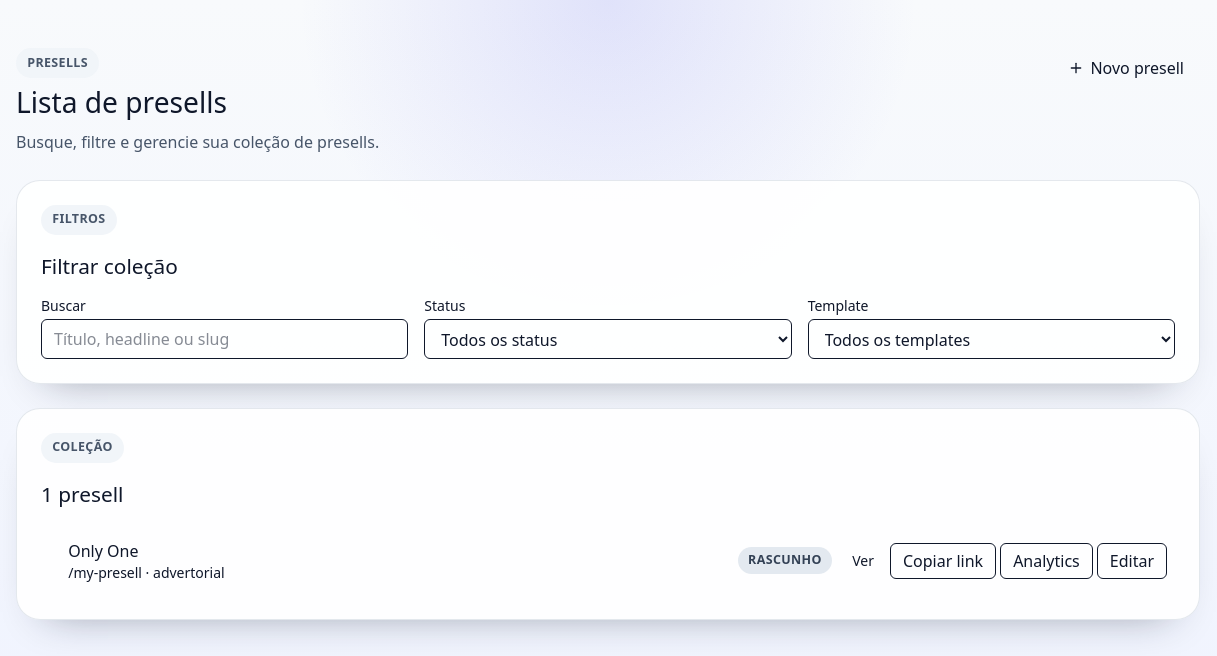
PresellListPage › shows empty state when no presells match filters
Expected: the text "Only One" is shown, x1=68 y1=540 x2=138 y2=562
Type "zzz-no-match" into the search field at (225, 339), box x1=41 y1=319 x2=408 y2=359
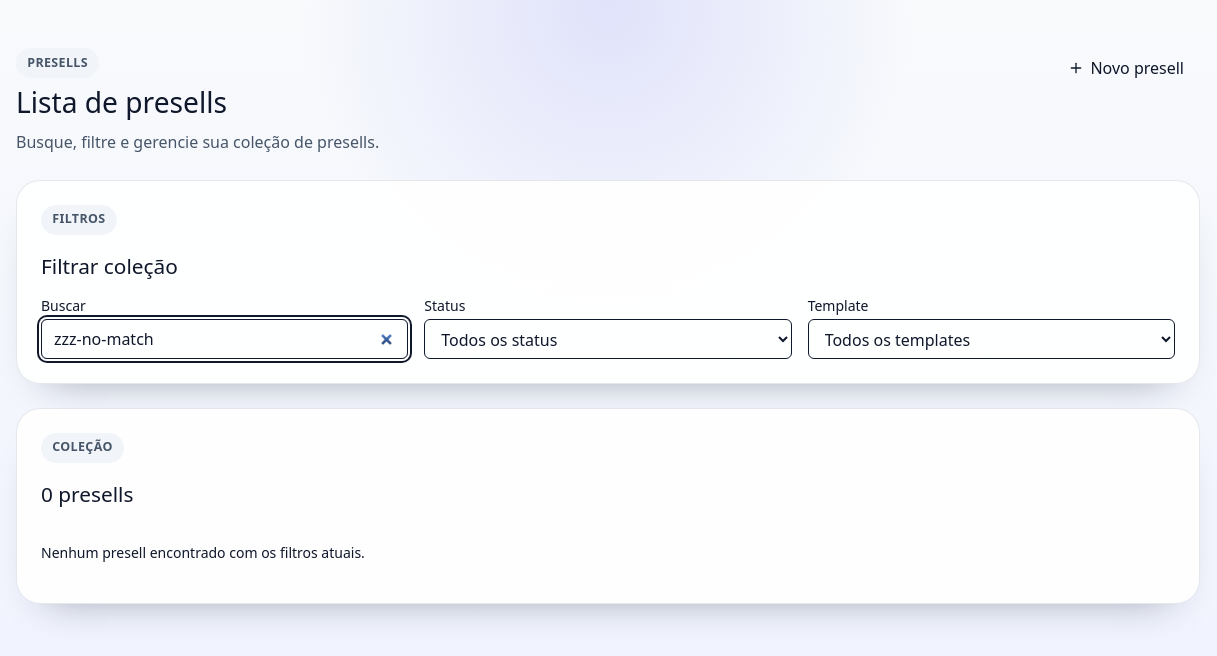
Expected: the text "Nenhum presell encontrado com os filtros atuais." is shown, x1=41 y1=542 x2=365 y2=562
